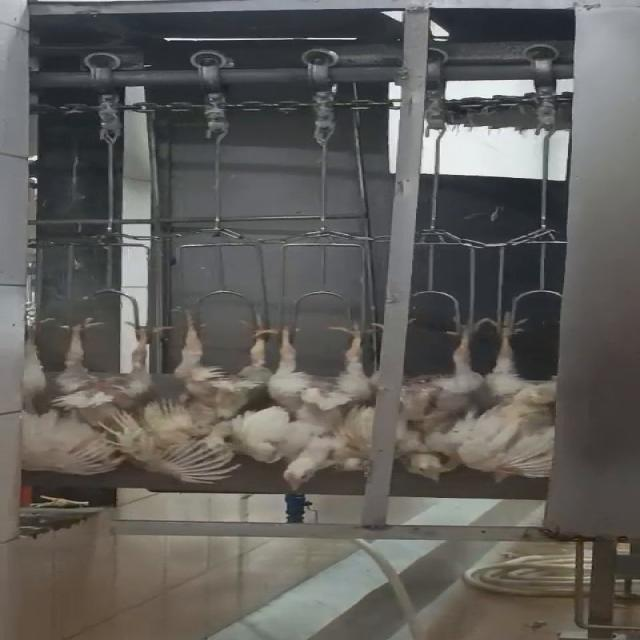chicken: (12, 308, 160, 478), (151, 312, 291, 488), (235, 318, 373, 493), (458, 298, 578, 482), (352, 313, 472, 481)
